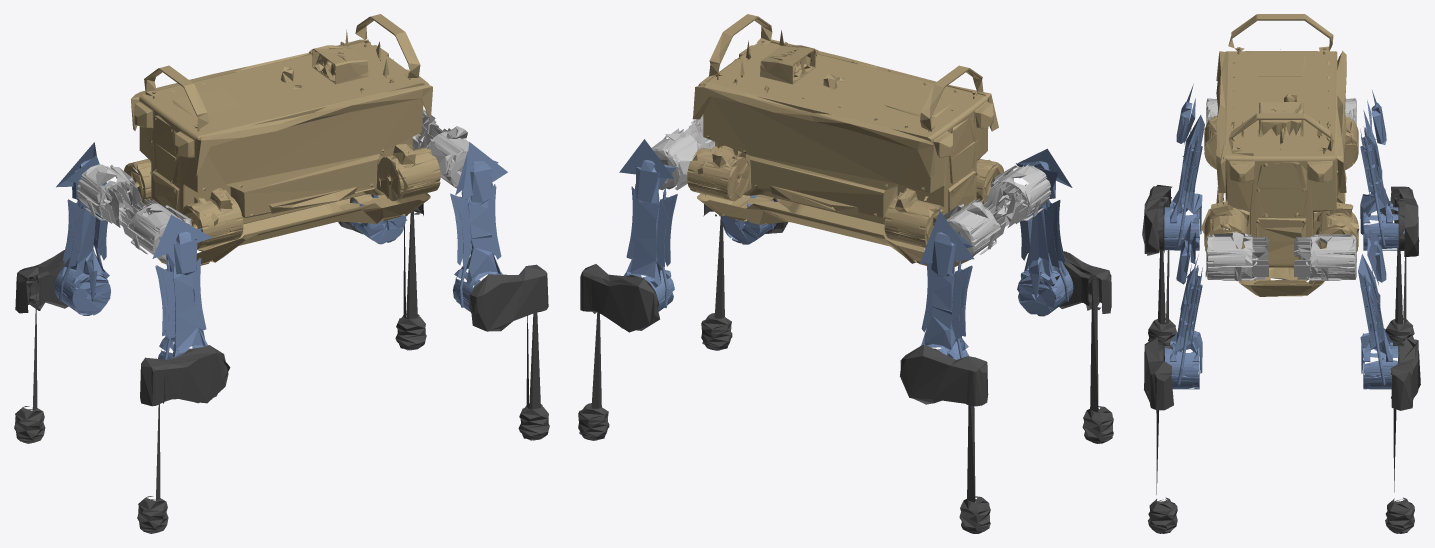
The picture shows the model from 3 angles, left to right: view 1: azimuth 30°, elevation 25°; view 2: azimuth 150°, elevation 25°; view 3: azimuth 270°, elevation 25°; orthographic projection. The views are drawn at different scales.
Parts seen in each view (by area): view 1: base, LH_SHANK, LH_THIGH, LF_THIGH, LF_SHANK, RF_THIGH, RF_SHANK, RF_HIP, RH_SHANK, LF_HIP, LH_HIP, RH_THIGH; view 2: base, RF_SHANK, RH_THIGH, LF_THIGH, RH_SHANK, RF_THIGH, LF_SHANK, LF_HIP, RF_HIP, LH_SHANK, RH_HIP, LH_THIGH; view 3: base, RH_THIGH, LF_THIGH, LH_THIGH, RF_THIGH, LH_HIP, RH_SHANK, RH_HIP, LH_SHANK, RF_SHANK, LF_SHANK.
Part boxes in pixels (left/top/right/bottom): base: left=124, top=14, right=440, bottom=265; LH_SHANK: left=468, top=264, right=549, bottom=440; LH_THIGH: left=450, top=142, right=507, bottom=312; LF_THIGH: left=152, top=215, right=211, bottom=359; LF_SHANK: left=137, top=345, right=230, bottom=533; RF_THIGH: left=54, top=142, right=110, bottom=315; RF_SHANK: left=14, top=250, right=72, bottom=443; RF_HIP: left=76, top=164, right=143, bottom=227; RH_SHANK: left=338, top=197, right=426, bottom=350; LF_HIP: left=121, top=198, right=191, bottom=261; LH_HIP: left=421, top=126, right=469, bottom=188; RH_THIGH: left=351, top=194, right=406, bottom=244; base: left=687, top=14, right=1003, bottom=266; RF_SHANK: left=900, top=344, right=990, bottom=533; RH_THIGH: left=619, top=139, right=677, bottom=311; LF_THIGH: left=1016, top=148, right=1073, bottom=316; RH_SHANK: left=578, top=264, right=659, bottom=440; RF_THIGH: left=920, top=211, right=973, bottom=359; LF_SHANK: left=1051, top=251, right=1113, bottom=443; LF_HIP: left=986, top=164, right=1051, bottom=228; RF_HIP: left=943, top=199, right=1006, bottom=262; LH_SHANK: left=701, top=198, right=788, bottom=350; RH_HIP: left=651, top=128, right=706, bottom=190; LH_THIGH: left=721, top=195, right=776, bottom=244; base: left=1201, top=14, right=1359, bottom=296; RH_THIGH: left=1358, top=230, right=1398, bottom=389; LF_THIGH: left=1164, top=84, right=1204, bottom=250; LH_THIGH: left=1164, top=221, right=1202, bottom=389; RF_THIGH: left=1360, top=90, right=1404, bottom=250; LH_HIP: left=1205, top=232, right=1269, bottom=281; RH_SHANK: left=1385, top=337, right=1420, bottom=533; RH_HIP: left=1294, top=234, right=1356, bottom=280; LH_SHANK: left=1144, top=337, right=1177, bottom=533; RF_SHANK: left=1385, top=186, right=1419, bottom=348; LF_SHANK: left=1142, top=185, right=1176, bottom=349.
Bounding box in the file's own units: 0.9429 × 0.8604 × 0.578.
